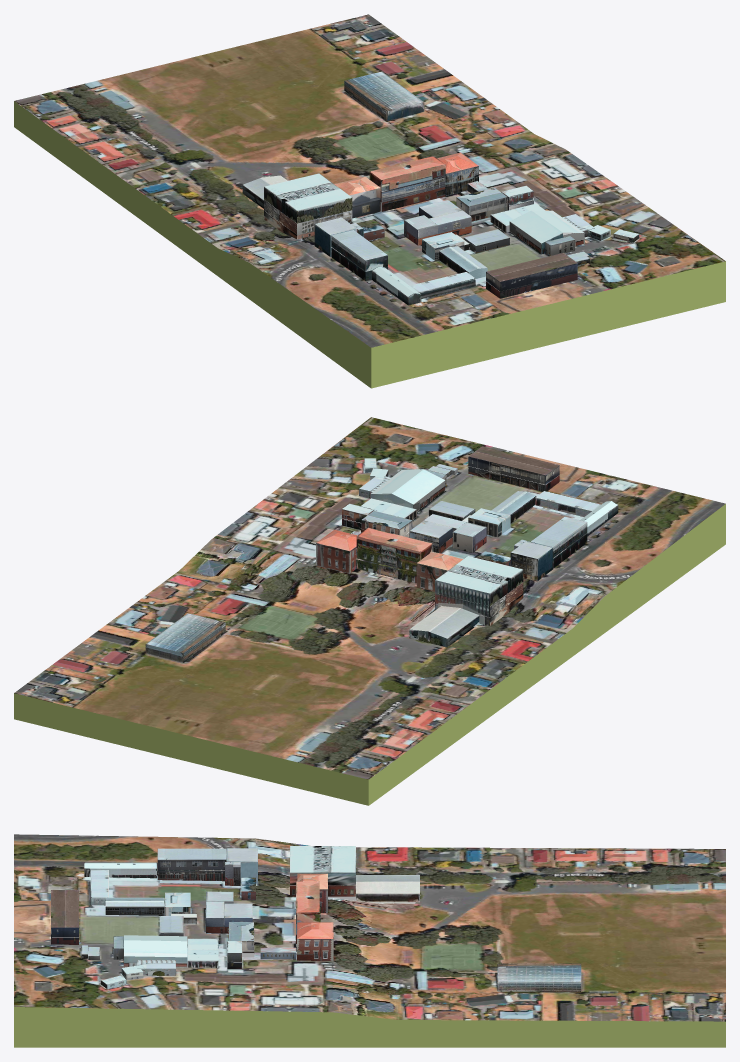
File: scots.gltf
The picture shows the model from 3 angles, top to bottom: view 1: azimuth 30°, elevation 25°; view 2: azimuth 150°, elevation 25°; view 3: azimuth 270°, elevation 25°; orthographic projection.
Parts seen in each view (by area): view 1: New Ground, CPACTop C11 GR2 GR1 AR2 AR3 AR1, Hodge HSC, Mckinnon MK11 mk12 mk13 mk14 mk15, Gym GYM11 GYM03 GYM02, AitkenTop 20 21 22, PrepUpstairs P14 P13 P12 P11, GRooms 14 13 02 04 03, ScienceBuilding SL11 SL12 SL2 SL1, ICT G14 G16, PrepBlock2 P5 P6 P7 P8, PrepBlock1 M02 M03 (+12 smaller); view 2: New Ground, CPACTop C11 GR2 GR1 AR2 AR3 AR1, Hodge HSC, Gym GYM11 GYM03 GYM02, Mckinnon MK11 mk12 mk13 mk14 mk15, Hall, AitkenTop 20 21 22, ScienceBuilding SL11 SL12 SL2 SL1, PrepLibaray P9 P10 Library, PrepUpstairs P14 P13 P12 P11, GRooms 14 13 02 04 03, CPACMiddle MR2 MR1 RS (+11 smaller); view 3: New Ground, Hodge HSC, CPACTop C11 GR2 GR1 AR2 AR3 AR1, Gym GYM11 GYM03 GYM02, Hall, PrepUpstairs P14 P13 P12 P11, ScienceBuilding SL11 SL12 SL2 SL1, Mckinnon MK11 mk12 mk13 mk14 mk15, PrepBlock3 P4 P3 P2 P1, PrepBlock1 M02 M03, AitkenTop 20 21 22, Chatres (+14 smaller).
Boxes of the visible parts, x1,y1,x2,y2 form: New Ground: (14, 14, 725, 388); CPACTop C11 GR2 GR1 AR2 AR3 AR1: (264, 173, 352, 223); Hodge HSC: (344, 71, 424, 120); Mckinnon MK11 mk12 mk13 mk14 mk15: (486, 253, 577, 291); Gym GYM11 GYM03 GYM02: (509, 210, 584, 254); AitkenTop 20 21 22: (369, 156, 445, 191); PrepUpstairs P14 P13 P12 P11: (331, 230, 387, 271); GRooms 14 13 02 04 03: (334, 176, 380, 218); ScienceBuilding SL11 SL12 SL2 SL1: (437, 152, 478, 195); ICT G14 G16: (456, 188, 507, 215); PrepBlock2 P5 P6 P7 P8: (410, 272, 475, 298); PrepBlock1 M02 M03: (372, 266, 421, 305); New Ground: (14, 417, 725, 805); CPACTop C11 GR2 GR1 AR2 AR3 AR1: (435, 556, 523, 606); Hodge HSC: (145, 613, 225, 662); Gym GYM11 GYM03 GYM02: (370, 469, 445, 512); Mckinnon MK11 mk12 mk13 mk14 mk15: (468, 446, 559, 484); Hall: (409, 606, 479, 647); AitkenTop 20 21 22: (356, 527, 432, 562); ScienceBuilding SL11 SL12 SL2 SL1: (316, 529, 357, 573); PrepLibaray P9 P10 Library: (510, 541, 553, 581); PrepUpstairs P14 P13 P12 P11: (531, 516, 587, 557); GRooms 14 13 02 04 03: (416, 551, 462, 591); CPACMiddle MR2 MR1 RS: (435, 582, 523, 617); New Ground: (14, 834, 725, 1047); Hodge HSC: (497, 963, 581, 991); CPACTop C11 GR2 GR1 AR2 AR3 AR1: (290, 846, 355, 885); Gym GYM11 GYM03 GYM02: (123, 935, 187, 967); Hall: (356, 875, 419, 902); PrepUpstairs P14 P13 P12 P11: (157, 848, 226, 870); ScienceBuilding SL11 SL12 SL2 SL1: (297, 922, 333, 961); Mckinnon MK11 mk12 mk13 mk14 mk15: (51, 890, 78, 937); PrepBlock3 P4 P3 P2 P1: (105, 897, 164, 915); PrepBlock1 M02 M03: (84, 862, 156, 878); AitkenTop 20 21 22: (296, 881, 319, 923); Chatres: (187, 938, 218, 967).
Bounding box in the file's own units: 181 × 32.94 × 315.
Materials: 42 (41 with a texture image).
